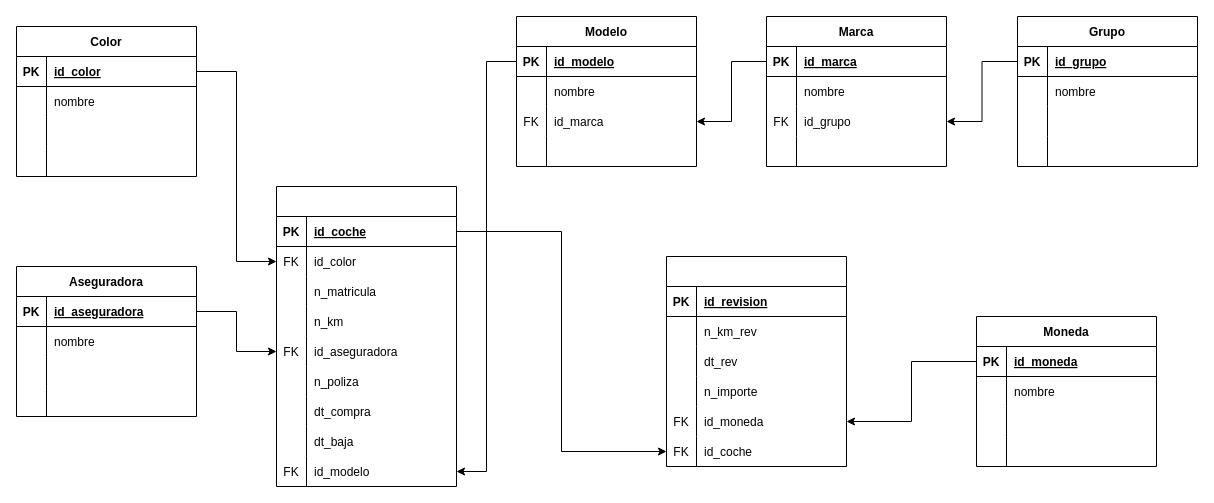
Image size: 1214x503. Some labels were removed from this diagram. Each missing label, with the box of its shape:
Coches: (276, 186, 456, 486)
HistRevision: (666, 256, 846, 466)
